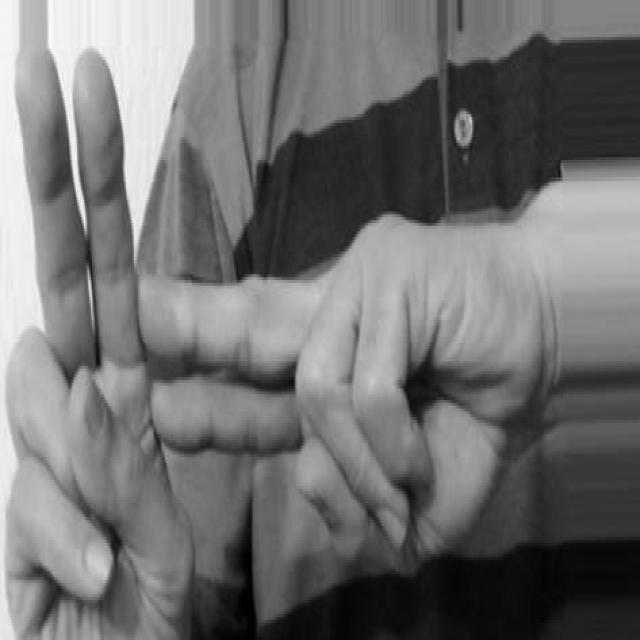K: (7, 43, 543, 640)
